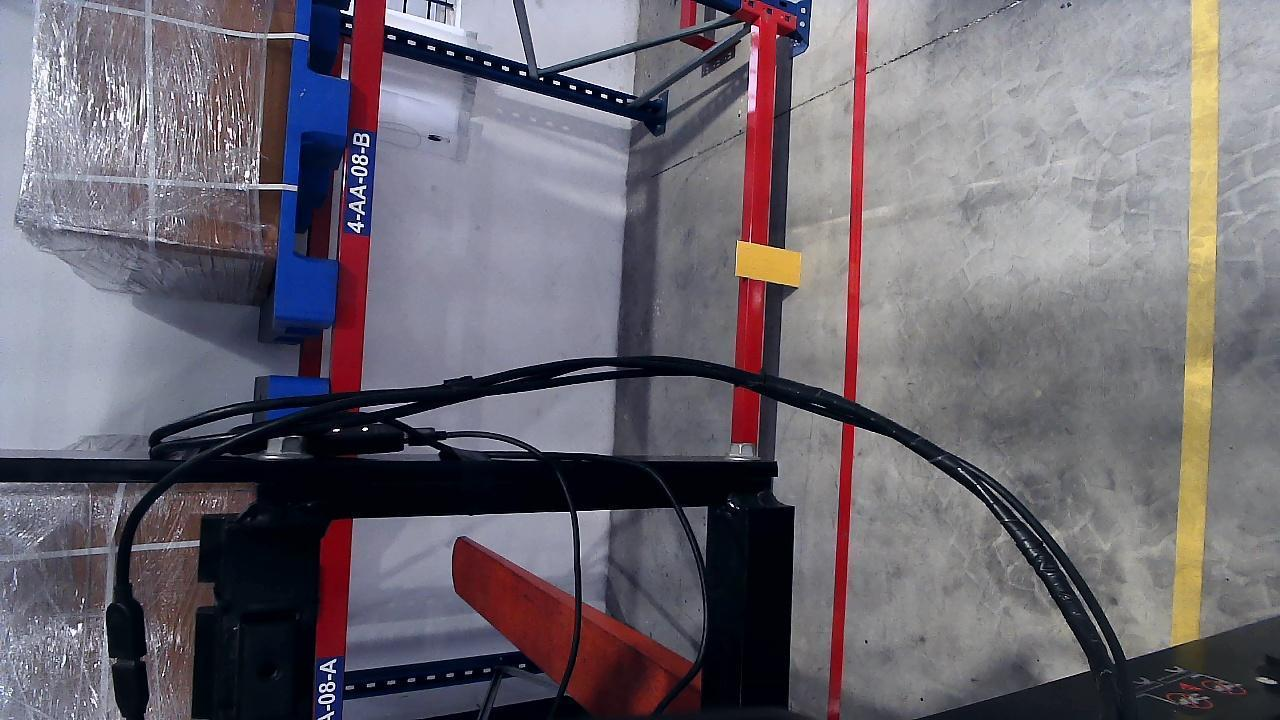red_line: (826, 1, 868, 712)
yellow_line: (1173, 0, 1219, 643)
